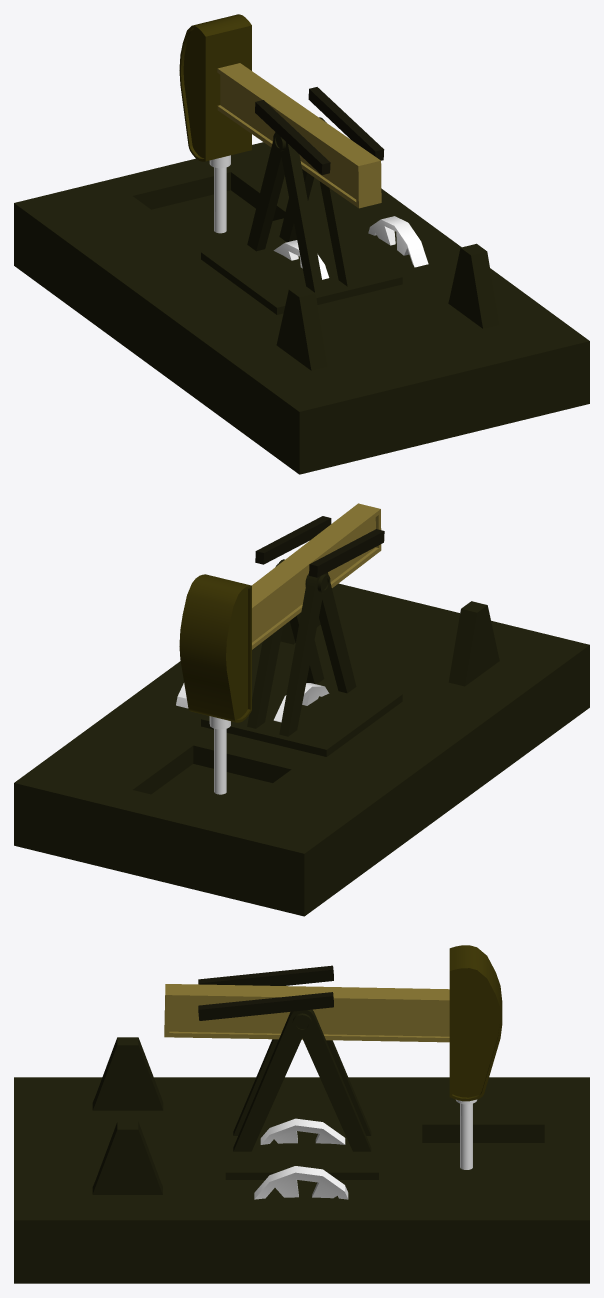
The model's file is Oil pump.fbx.
3 views of the same model, one above another, from view 1: azimuth 30°, elevation 25°; view 2: azimuth 150°, elevation 25°; view 3: azimuth 270°, elevation 25° (orthographic).
Visible parts, largest first — view 1: object_0, object_3, object_4, object_1, object_6, object_5; view 2: object_0, object_4, object_3, object_1, object_5, object_6; view 3: object_0, object_3, object_4, object_1, object_6, object_5.
Boxes of the visible parts, x1,y1,x2,y2 form: object_0: (14,117,589,474); object_3: (217,63,381,208); object_4: (179,14,251,161); object_1: (255,87,384,174); object_6: (273,216,428,279); object_5: (209,155,230,233); object_0: (14,559,589,916); object_4: (179,574,251,722); object_3: (252,503,381,649); object_1: (255,516,384,577); object_5: (209,716,230,794); object_6: (176,683,329,722); object_0: (14,1009,589,1283); object_3: (164,984,449,1042); object_4: (449,945,502,1101); object_1: (198,965,333,1020); object_6: (254,1118,348,1199); object_5: (456,1099,477,1169).
Bounding box in the file's own units: 240 × 205 × 409.
